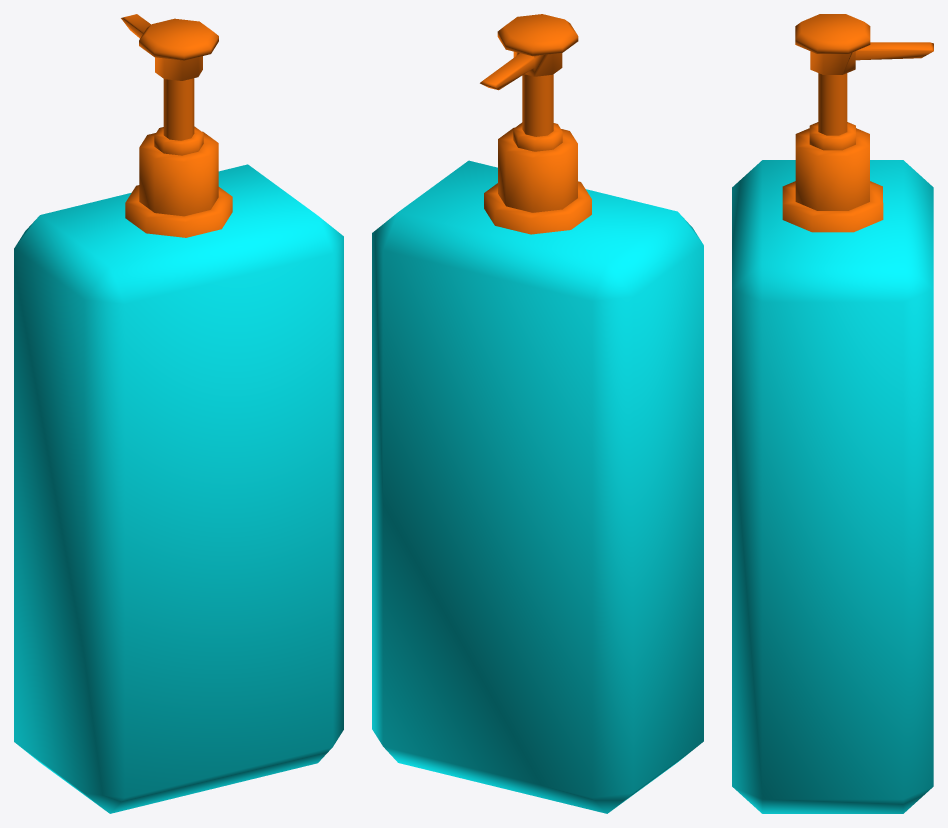
File: LiquidDesinfectant2.FBX
3 views of the same model, side by side, from view 1: azimuth 30°, elevation 25°; view 2: azimuth 150°, elevation 25°; view 3: azimuth 270°, elevation 25° (orthographic).
Visible parts, largest first — view 1: LiquidDesinfectant; view 2: LiquidDesinfectant; view 3: LiquidDesinfectant.
Boxes of the visible parts, x1,y1,x2,y2 form: LiquidDesinfectant: [14, 14, 343, 813]; LiquidDesinfectant: [372, 14, 703, 813]; LiquidDesinfectant: [732, 14, 933, 813].
Bounding box in the file's own units: 5.91 × 15.86 × 3.94.
